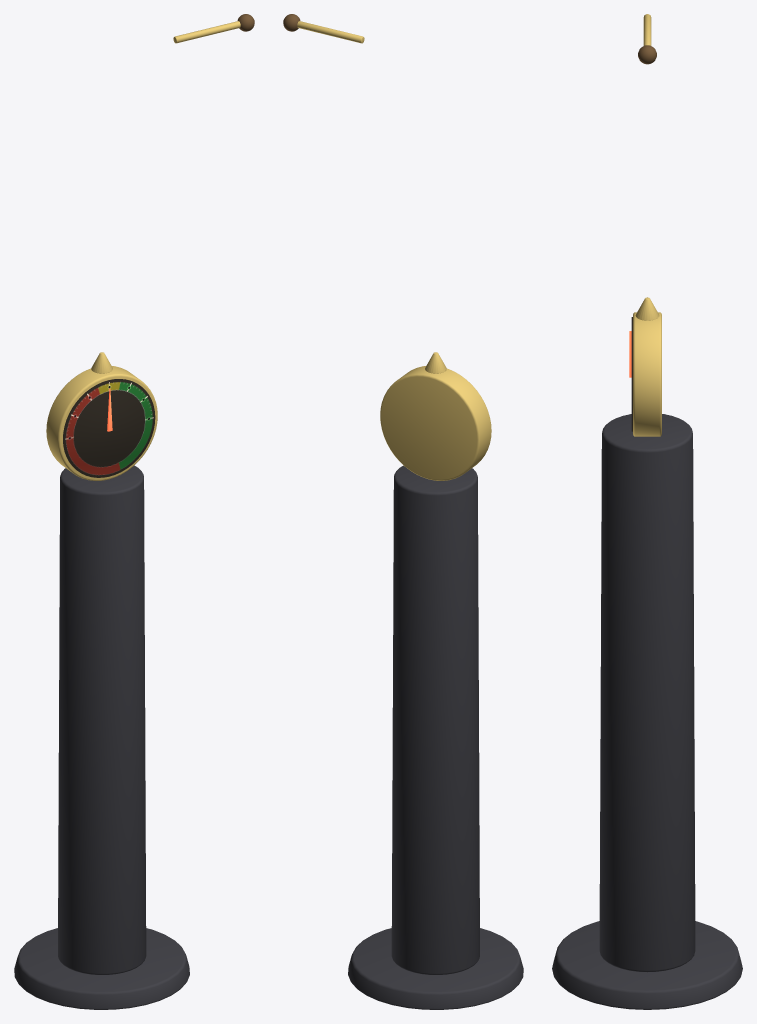
The model's file is EOT_VR_v1.0.glb.
3 views of the same model, side by side, from view 1: azimuth 30°, elevation 25°; view 2: azimuth 150°, elevation 25°; view 3: azimuth 270°, elevation 25° (orthographic). The views are drawn at different scales.
Visible parts, largest first — view 1: eot_pedestal, eot_base, eot_dial_face, eot_dome; view 2: eot_pedestal, eot_dome, eot_base; view 3: eot_pedestal, eot_base, eot_dome.
Boxes of the visible parts, left/top/right/bottom form: eot_pedestal: left=58, top=465, right=146, bottom=974; eot_base: left=14, top=928, right=189, bottom=1009; eot_dial_face: left=63, top=379, right=155, bottom=477; eot_dome: left=46, top=366, right=157, bottom=480; eot_pedestal: left=391, top=465, right=479, bottom=974; eot_dome: left=380, top=366, right=491, bottom=480; eot_base: left=348, top=928, right=523, bottom=1009; eot_pedestal: left=599, top=414, right=695, bottom=972; eot_base: left=552, top=921, right=742, bottom=1009; eot_dome: left=633, top=312, right=661, bottom=436.
Size of the model in its own units: 0.5938 by 2.3 by 0.3976.
Materials: 6 (1 with a texture image).
